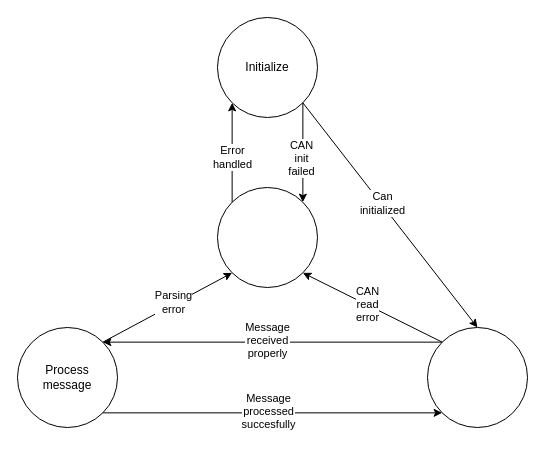
Some shapes in this 545 by 449 pixel diagram are drawn without their labels. The shapes that lost their labels are listed below. From the top down, each one's centre as x and y in pixels, then its label:
At [267,237]: "Error".
At [477,377]: "Wait for message".
